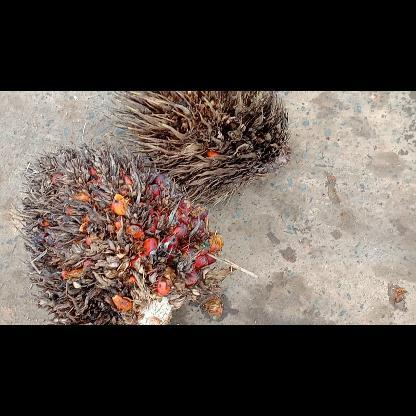Janjang kosong: (103, 91, 290, 207)
Terlalu masak: (9, 142, 231, 324)
